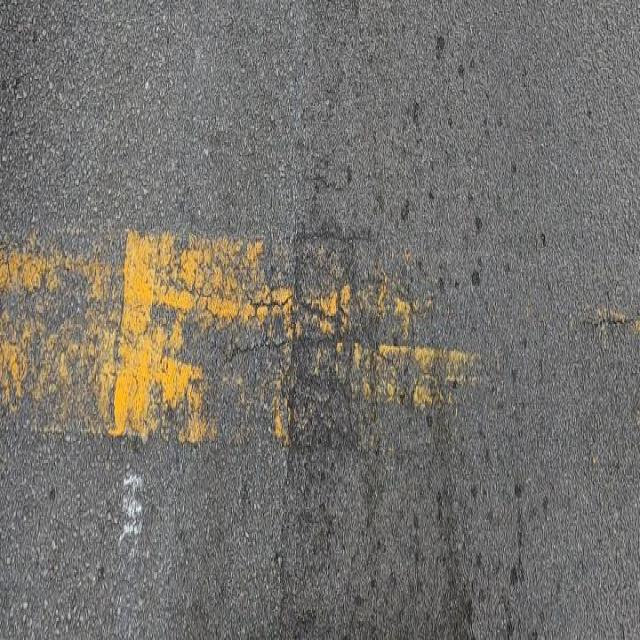cracks: (262, 196, 465, 628)
